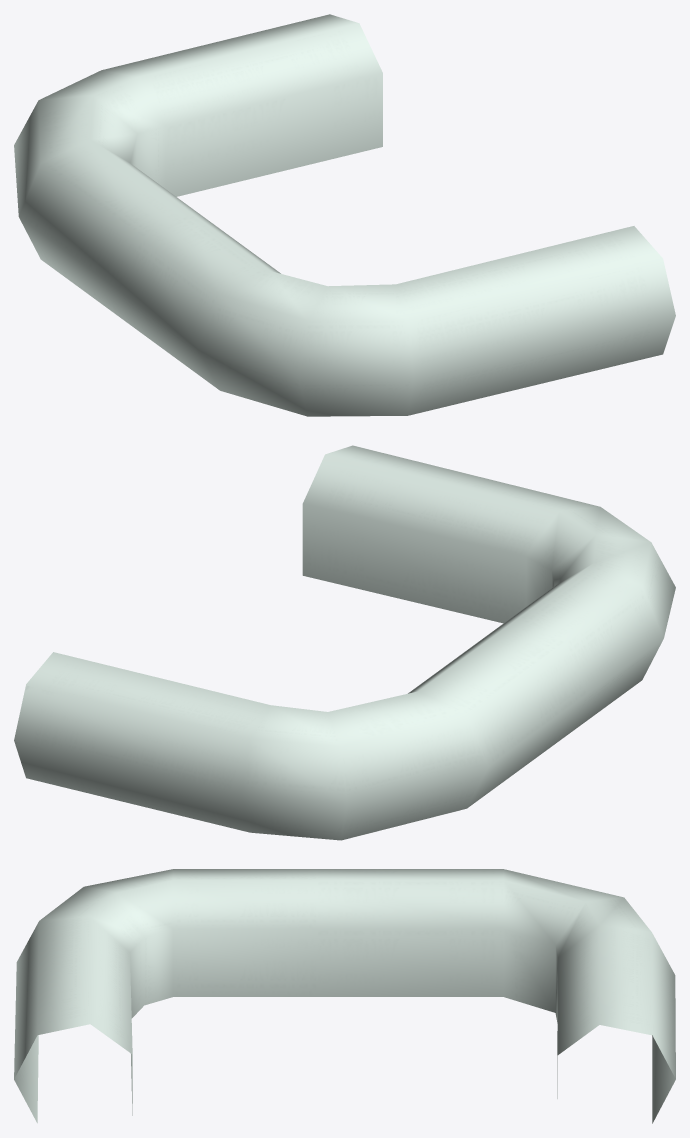
File: Norris_Maze_White_Wire_C.fbx
The picture shows the model from 3 angles, top to bottom: view 1: azimuth 30°, elevation 25°; view 2: azimuth 150°, elevation 25°; view 3: azimuth 270°, elevation 25°; orthographic projection. The views are drawn at different scales.
Parts seen in each view (by area): view 1: WireC7; view 2: WireC7; view 3: WireC7.
Boxes of the visible parts, box(x1,y1,x2,y2) form: WireC7: box(14, 14, 675, 416); WireC7: box(14, 445, 675, 840); WireC7: box(14, 869, 675, 1123).
Size of the model in its own units: 3.79 by 0.9939 by 6.
